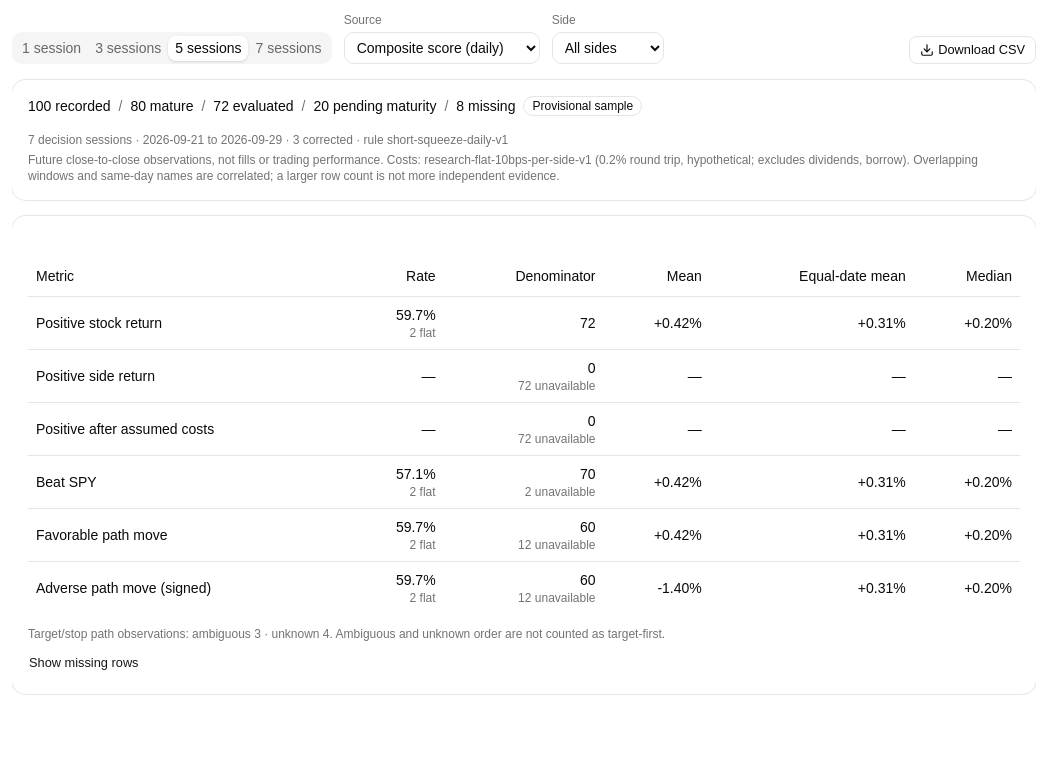
the scanner cohort states when its measurement starts
The image size is (1048, 780).
Select "Short Squeeze Strategy" in the dropdown labelled "Source": (442,48) [344,32,540,64]
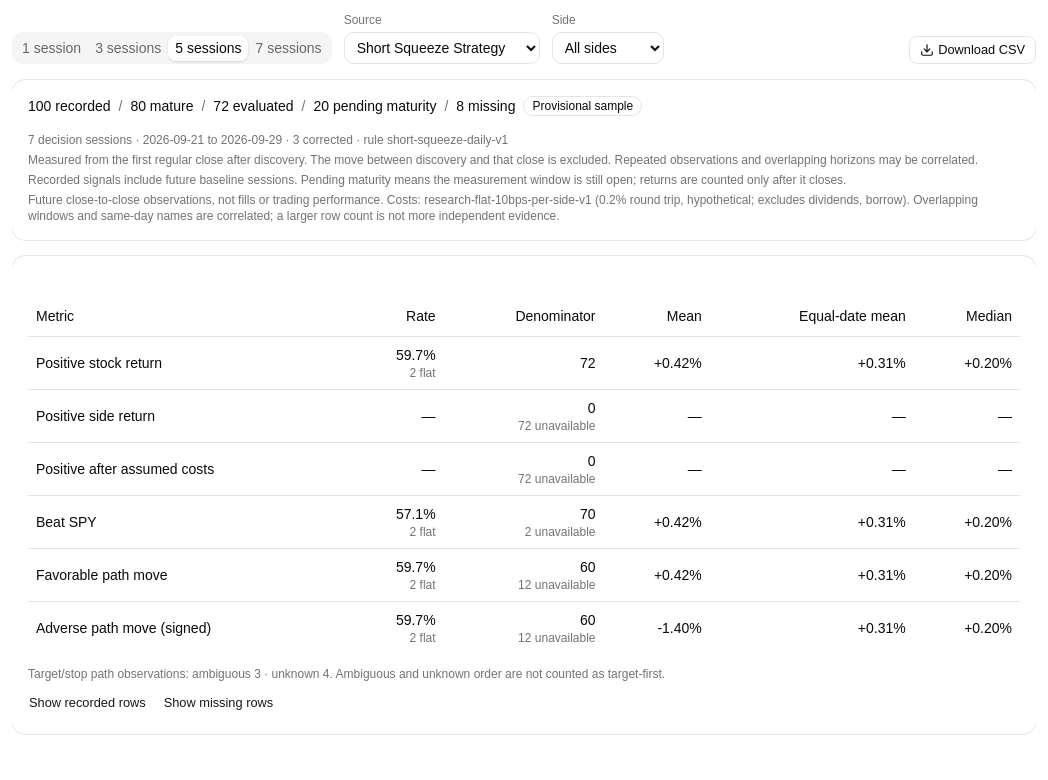
expect the text "rule short-squeeze-daily-v1" is shown: met, box [353,133,508,147]
expect the text "Measured from the first regular close after discovery. The move between discovery and that close is excluded. Repeated o" is shown: met, box [28,153,978,167]
